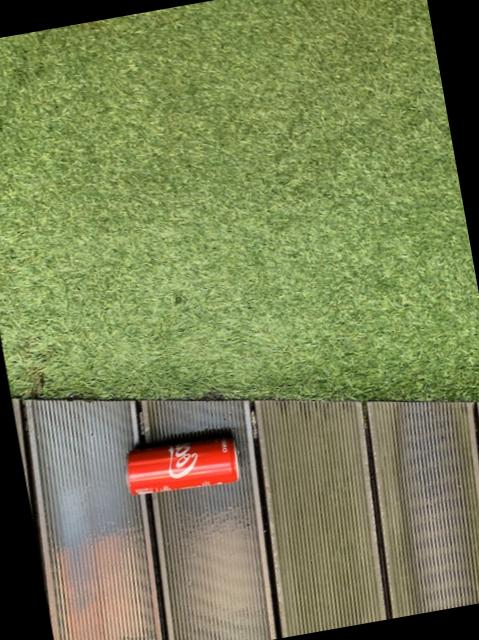metal: (126, 438, 236, 493)
